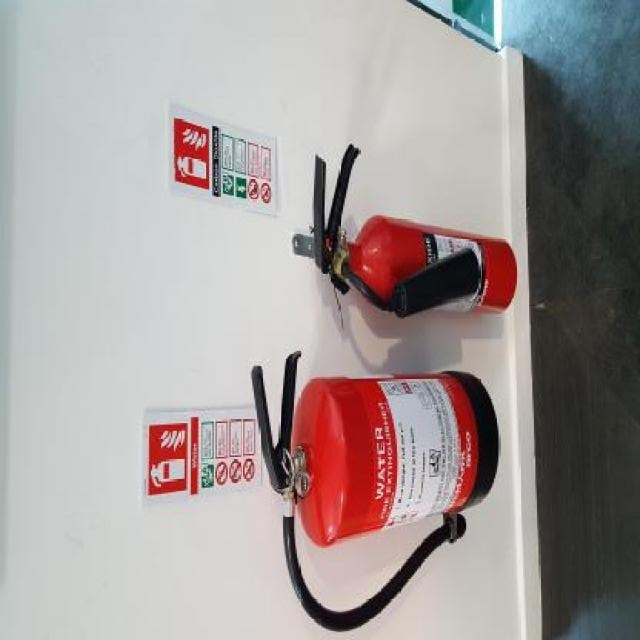fire extinguisher: (250, 349, 502, 635), (313, 145, 519, 317)
